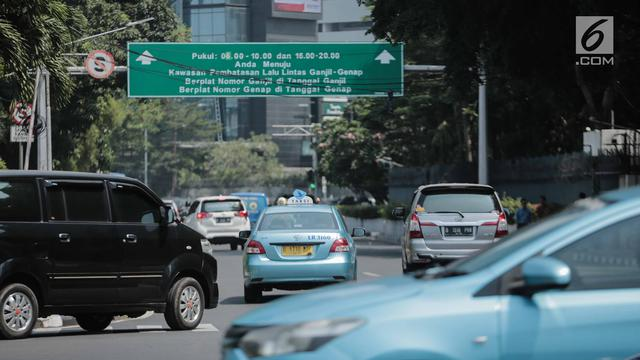plate: (282, 244, 312, 257), (444, 225, 472, 236), (214, 216, 232, 224)
